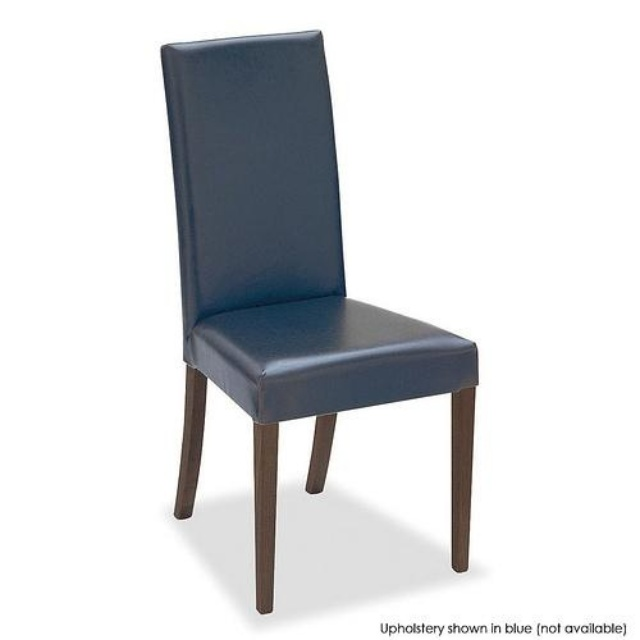obstacle: (161, 31, 477, 612)
